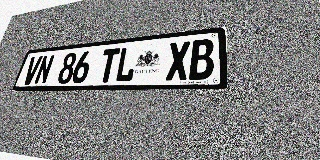6: (70, 51, 93, 83)
8: (56, 52, 79, 84)
B: (189, 38, 214, 80)
L: (114, 46, 138, 82)
N: (33, 55, 55, 85)
T: (97, 48, 120, 83)
V: (21, 56, 43, 85)
X: (166, 41, 190, 81)
